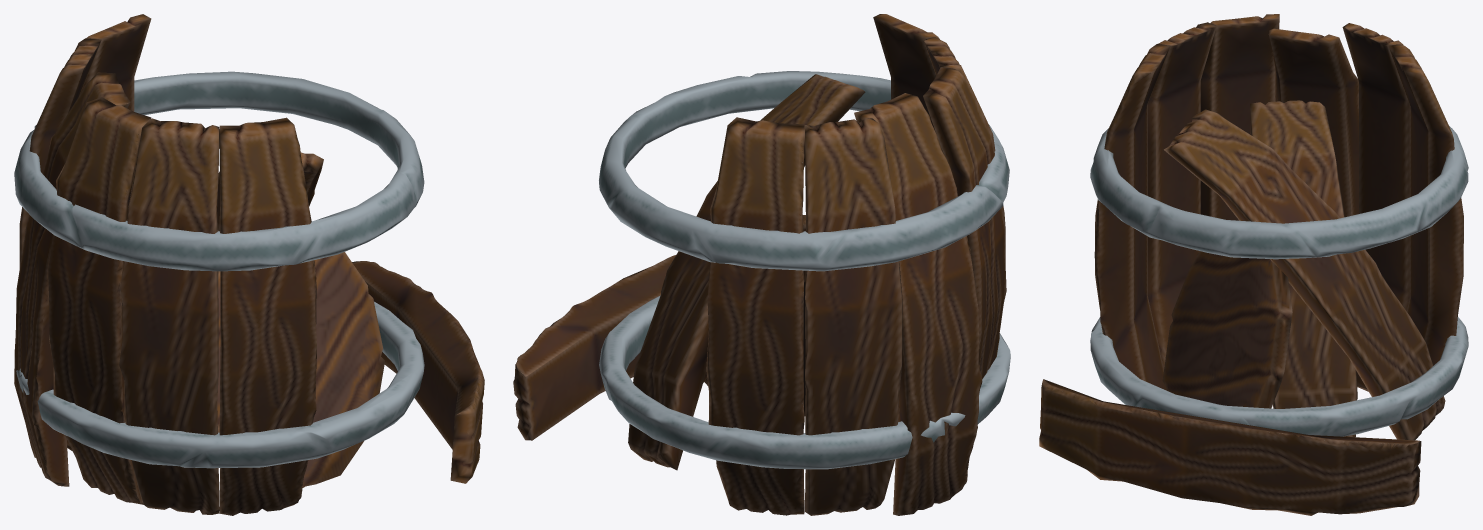
File: BarrelBroken.FBX
3 renders of one model, left to right at view 1: azimuth 30°, elevation 25°; view 2: azimuth 150°, elevation 25°; view 3: azimuth 270°, elevation 25°, orthographic. The views are drawn at different scales.
Visible parts, largest first — view 1: BarrelBroken_01; view 2: BarrelBroken_01; view 3: BarrelBroken_01.
Boxes of the visible parts, box(x1,y1,x2,y2) form: BarrelBroken_01: box(14, 14, 484, 515); BarrelBroken_01: box(513, 14, 1010, 515); BarrelBroken_01: box(1039, 14, 1468, 515).
Size of the model in its own units: 1.62 by 1.5 by 1.61.
